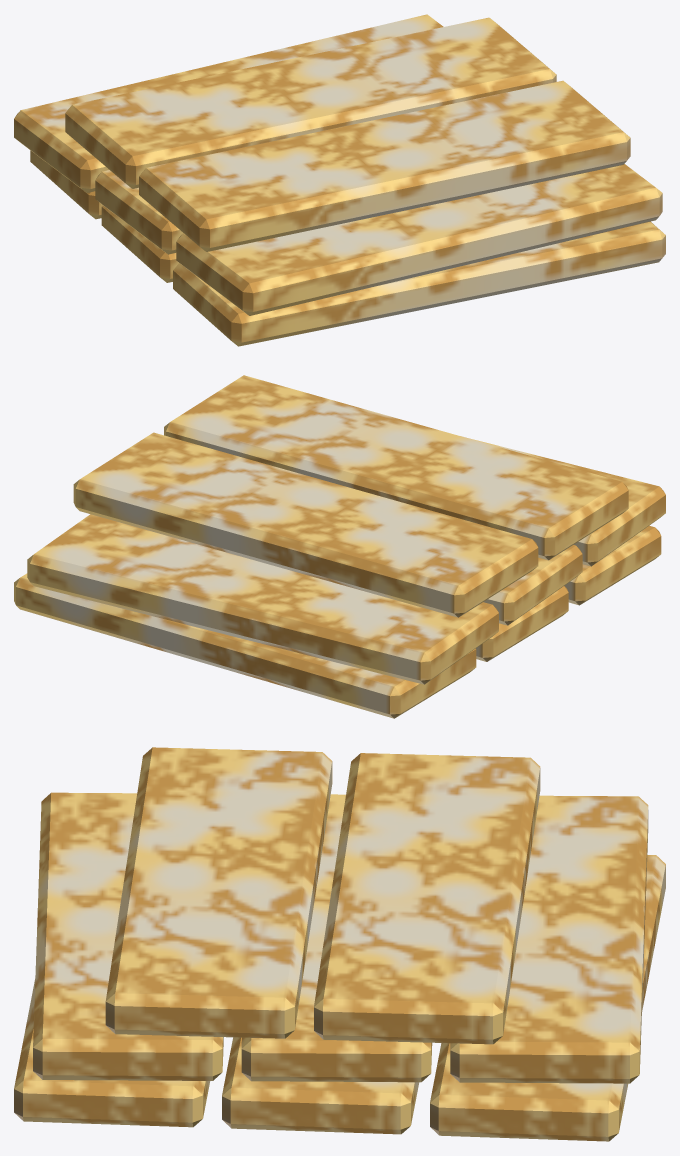
The model's file is tofu.fbx.
The picture shows the model from 3 angles, top to bottom: view 1: azimuth 30°, elevation 25°; view 2: azimuth 150°, elevation 25°; view 3: azimuth 270°, elevation 25°; orthographic projection. The views are drawn at different scales.
Parts seen in each view (by area): view 1: Cube.289, Cube.287, Cube.288; view 2: Cube.289, Cube.287, Cube.288; view 3: Cube.289, Cube.287, Cube.288.
Part boxes in pixels (bbox=[...]): Cube.289: bbox=[65, 17, 630, 251]; Cube.287: bbox=[14, 14, 662, 315]; Cube.288: bbox=[30, 150, 665, 346]; Cube.289: bbox=[73, 375, 628, 617]; Cube.287: bbox=[27, 437, 665, 684]; Cube.288: bbox=[14, 525, 661, 718]; Cube.289: bbox=[105, 747, 540, 1044]; Cube.287: bbox=[33, 792, 648, 1083]; Cube.288: bbox=[14, 855, 665, 1141].
Size of the model in its own units: 7.22 by 1.59 by 7.26.
